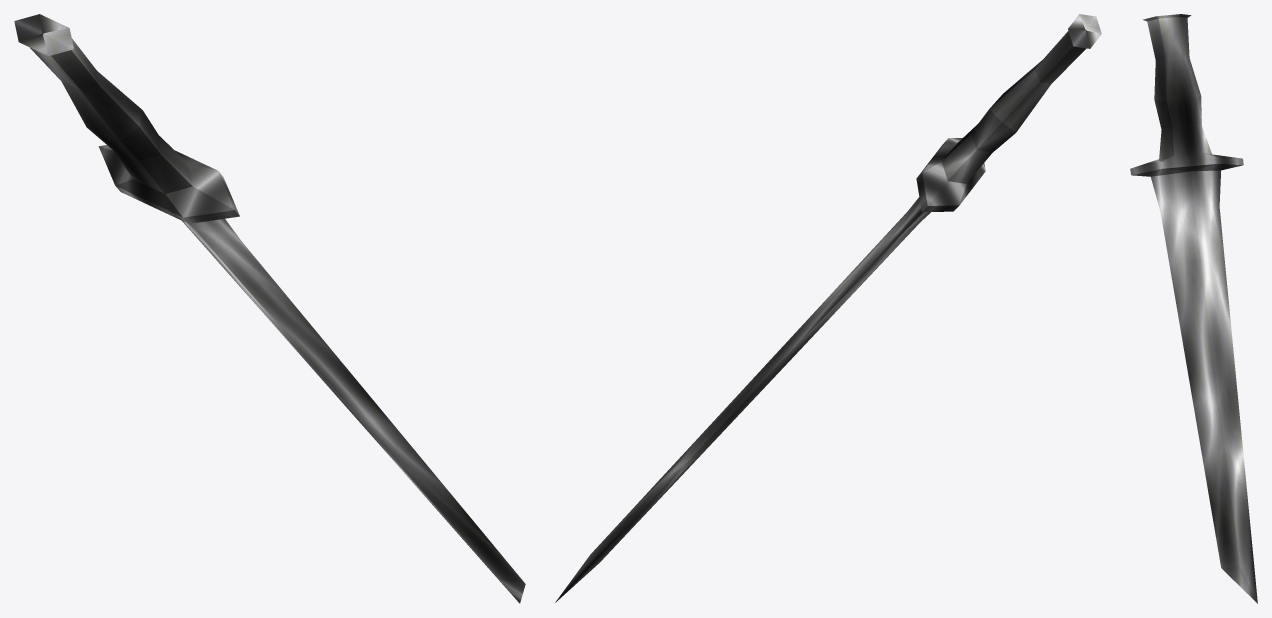
3 views of the same model, side by side, from view 1: azimuth 30°, elevation 25°; view 2: azimuth 150°, elevation 25°; view 3: azimuth 270°, elevation 25° (orthographic). The views are drawn at different scales.
Visible parts, largest first — view 1: J6; view 2: J6; view 3: J6.
Boxes of the visible parts, x1,y1,x2,y2 form: J6: (14, 14, 525, 603); J6: (555, 14, 1101, 602); J6: (1130, 14, 1257, 603).
Size of the model in its own units: 1.82 by 2.35 by 0.6214.
